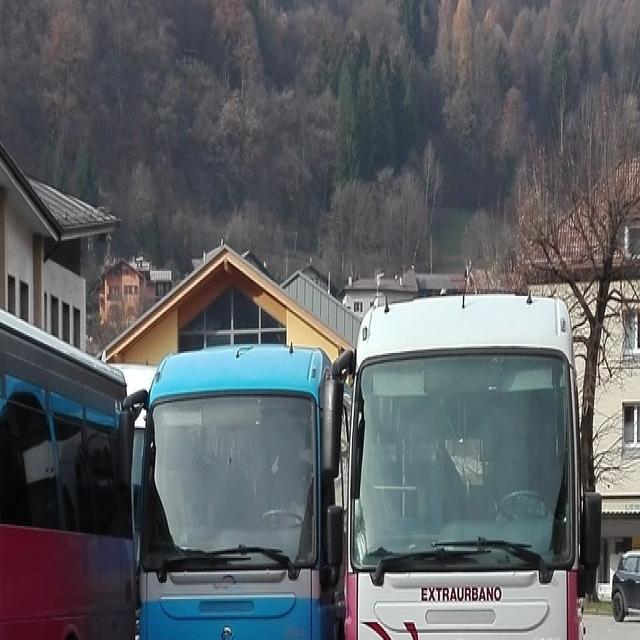bus: (338, 287, 600, 640), (0, 139, 143, 640), (122, 340, 351, 640)
car: (611, 548, 639, 620)
